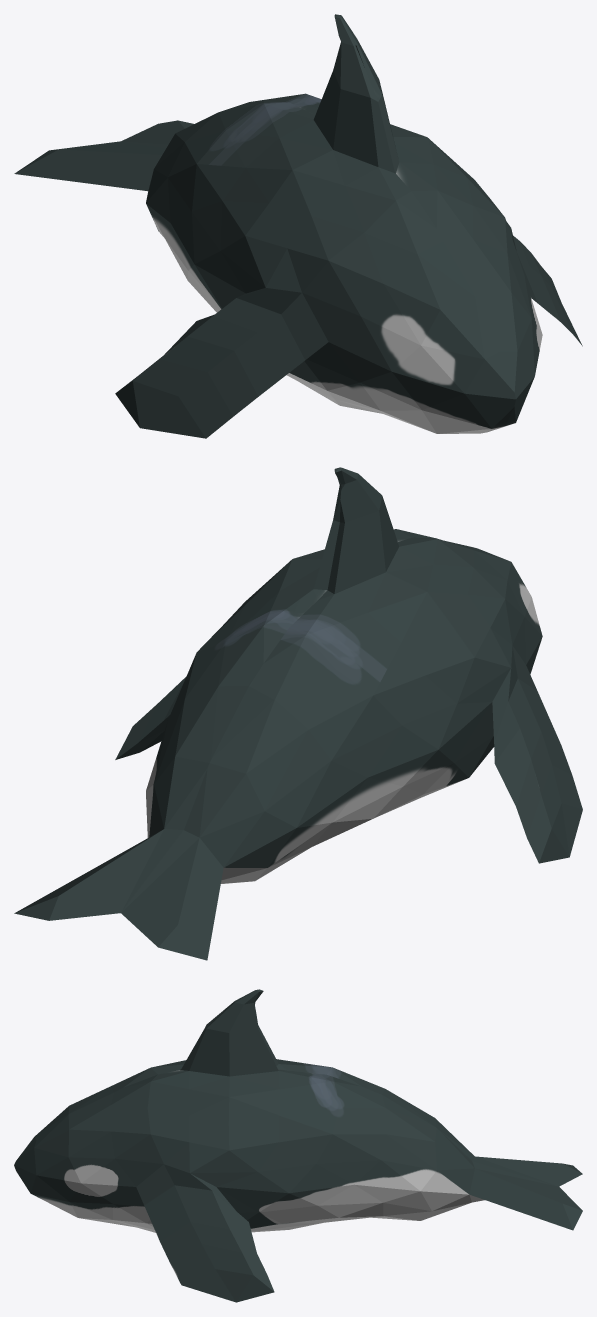
File: orca.glb
3 renders of one model, top to bottom at view 1: azimuth 30°, elevation 25°; view 2: azimuth 150°, elevation 25°; view 3: azimuth 270°, elevation 25°, orthographic. The views are drawn at different scales.
Visible parts, largest first — view 1: Icosphere; view 2: Icosphere; view 3: Icosphere.
Boxes of the visible parts, x1,y1,x2,y2 form: Icosphere: (14,14,582,438); Icosphere: (14,467,582,960); Icosphere: (14,989,582,1302).
Size of the model in its own units: 3.35 by 2.59 by 5.57.
Materials: 1 (1 with a texture image).
